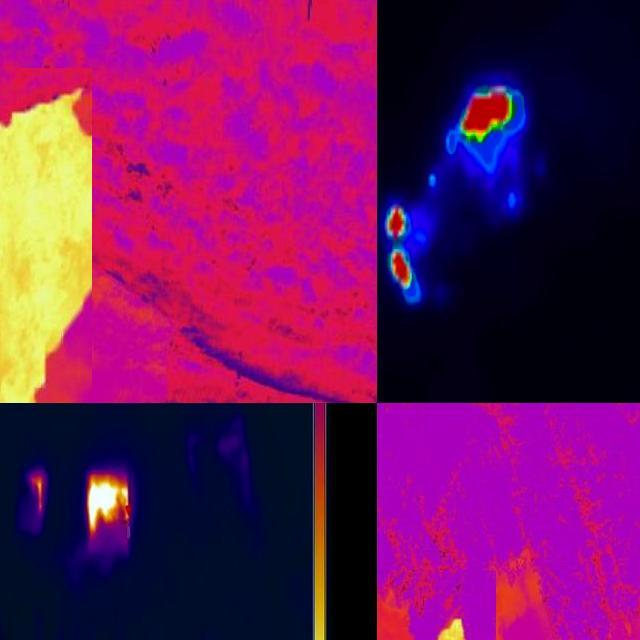fire: (1, 84, 92, 404), (86, 470, 131, 540), (459, 85, 515, 140), (385, 201, 415, 293), (430, 614, 474, 640), (30, 469, 46, 518)
